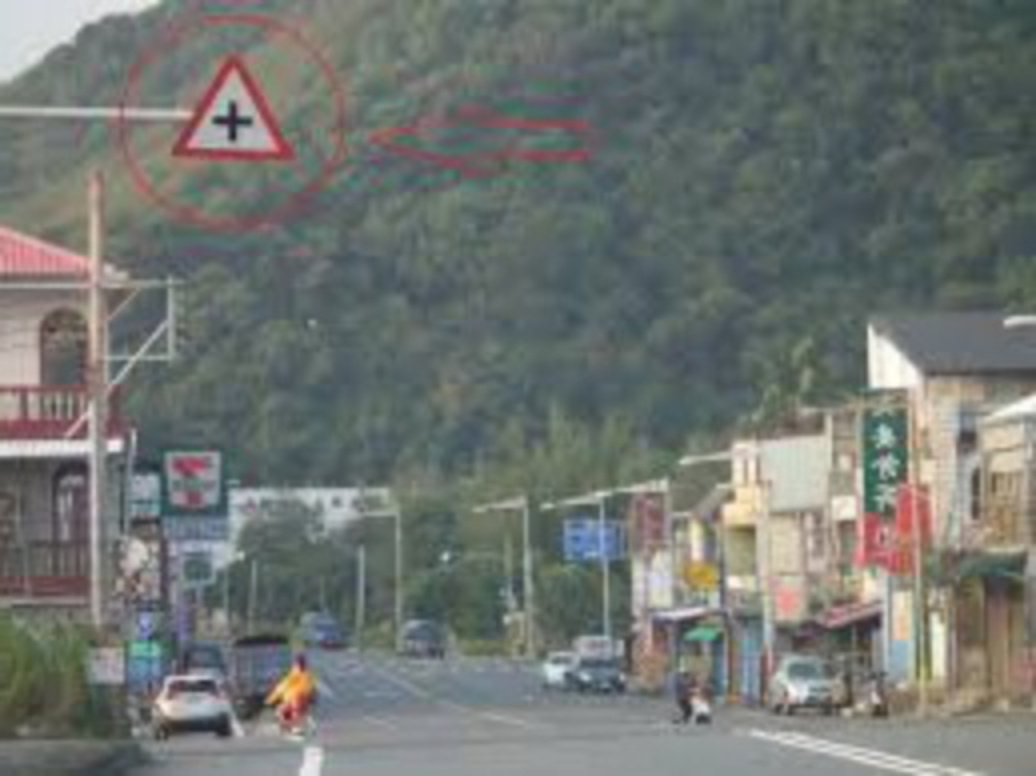Fork_road: (171, 54, 294, 164)
